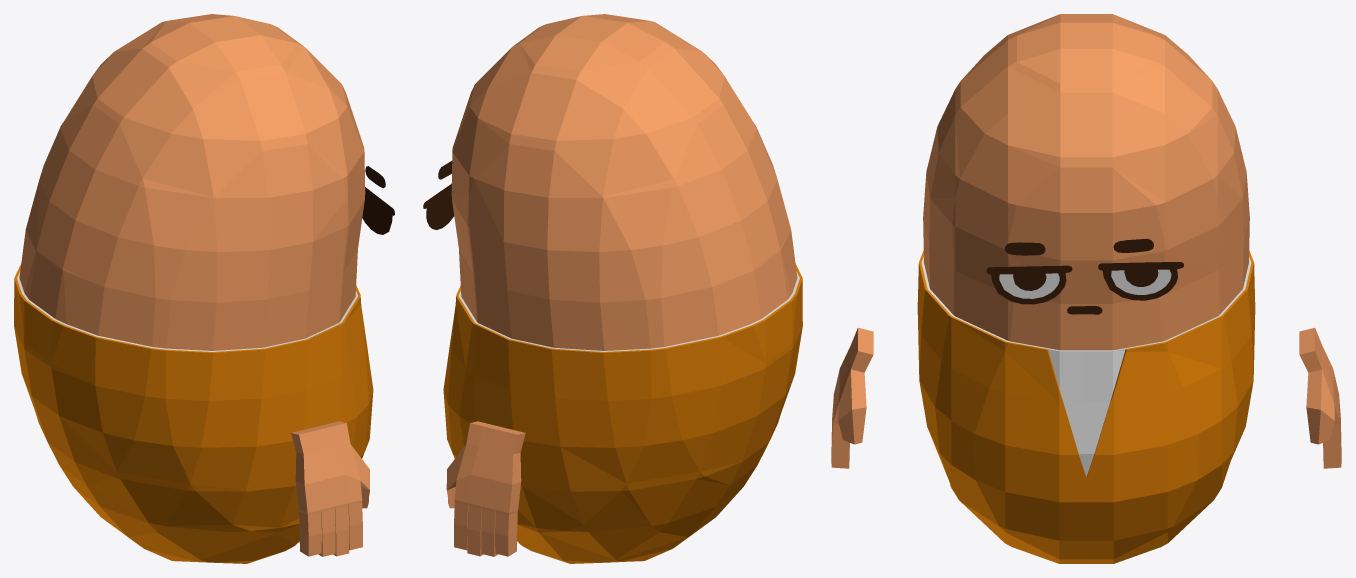
Rendered from Prisoner.fbx.
3 views of the same model, side by side, from view 1: azimuth 30°, elevation 25°; view 2: azimuth 150°, elevation 25°; view 3: azimuth 270°, elevation 25° (orthographic).
Visible parts, largest first — view 1: Potato.001, Mball.002, Cube.002, Plane.001; view 2: Potato.001, Mball.002, Cube.003, Plane.001; view 3: Potato.001, Mball.002, Plane.001, Cube.002, Cube.003.
Boxes of the visible parts, <box> form: Potato.001: <box>19,14,365,350</box>; Mball.002: <box>14,264,373,563</box>; Cube.002: <box>291,421,369,556</box>; Plane.001: <box>362,166,394,234</box>; Potato.001: <box>451,14,797,350</box>; Mball.002: <box>443,264,802,563</box>; Cube.003: <box>446,421,525,556</box>; Plane.001: <box>423,161,454,229</box>; Potato.001: <box>923,14,1249,350</box>; Mball.002: <box>917,251,1255,563</box>; Plane.001: <box>986,238,1183,314</box>; Cube.002: <box>831,327,873,468</box>; Cube.003: <box>1299,327,1341,468</box>.
Bounding box in the file's own units: 274 × 438 × 389.
